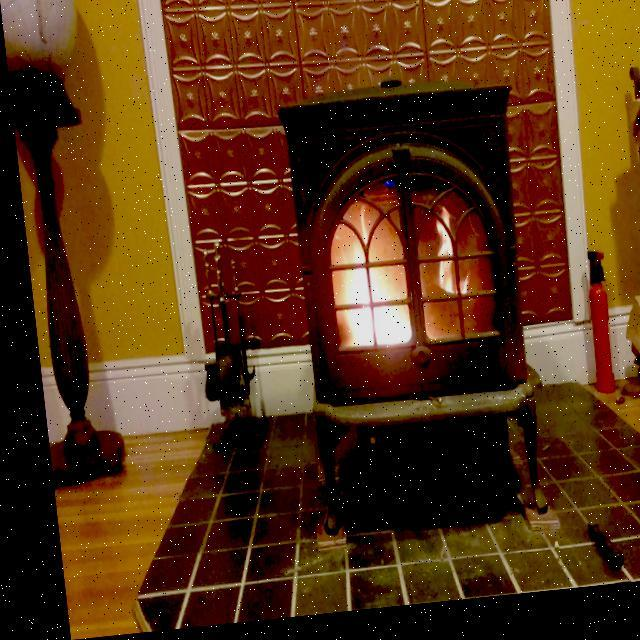Fire: (314, 175, 466, 352)
